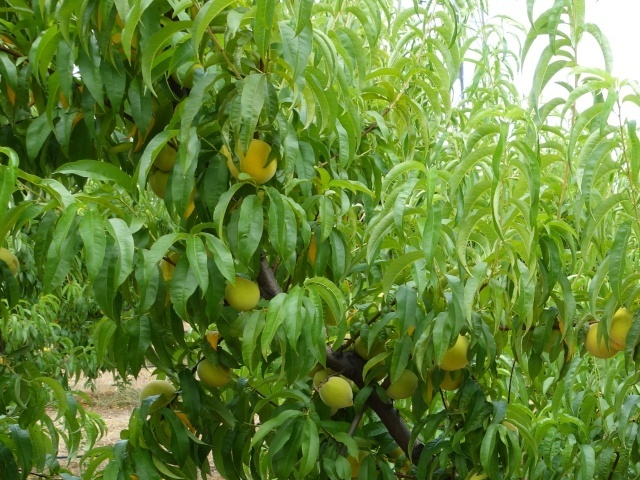peach: (224, 134, 280, 188), (576, 317, 620, 365), (219, 273, 264, 314), (435, 329, 475, 374), (603, 304, 639, 353), (136, 377, 180, 413), (316, 375, 357, 412), (195, 354, 234, 391), (380, 367, 422, 401), (149, 140, 182, 177), (429, 364, 469, 393), (143, 165, 175, 199)
